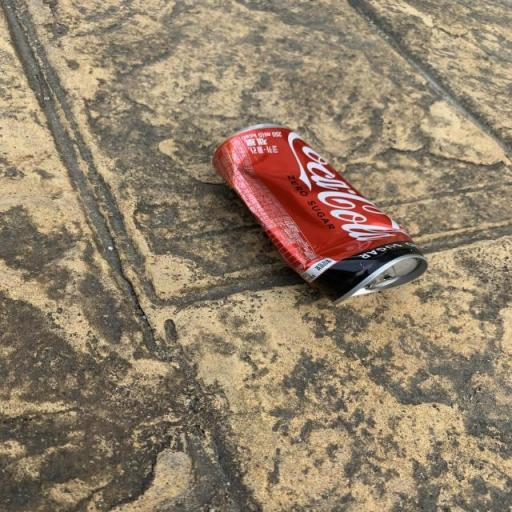metal: (195, 106, 456, 332)
